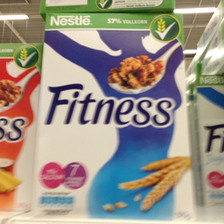cereal: (35, 12, 198, 220)
